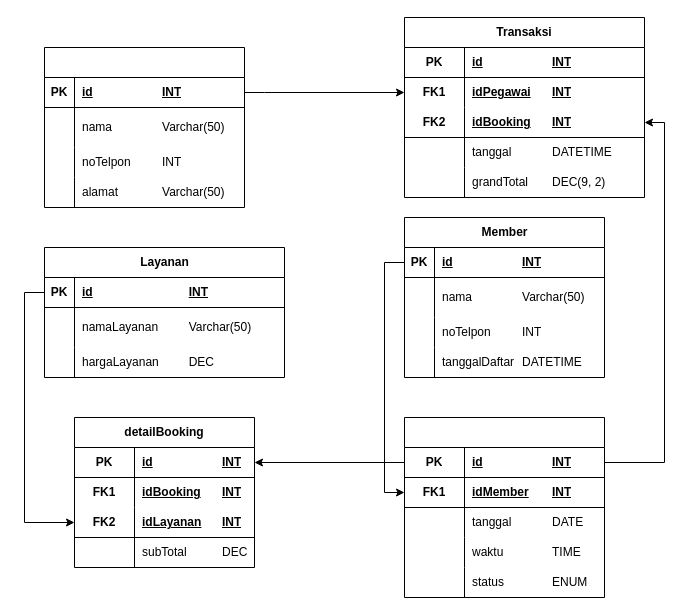
Image size: 690x615. Some labels were removed from this diagram. The shapes that lost their labels are listed below. From the top down, each one's box as (x1, y1, x2, y2) in pixels, then its label:
(44, 46, 244, 208): Pegawai
(404, 416, 604, 598): Booking
